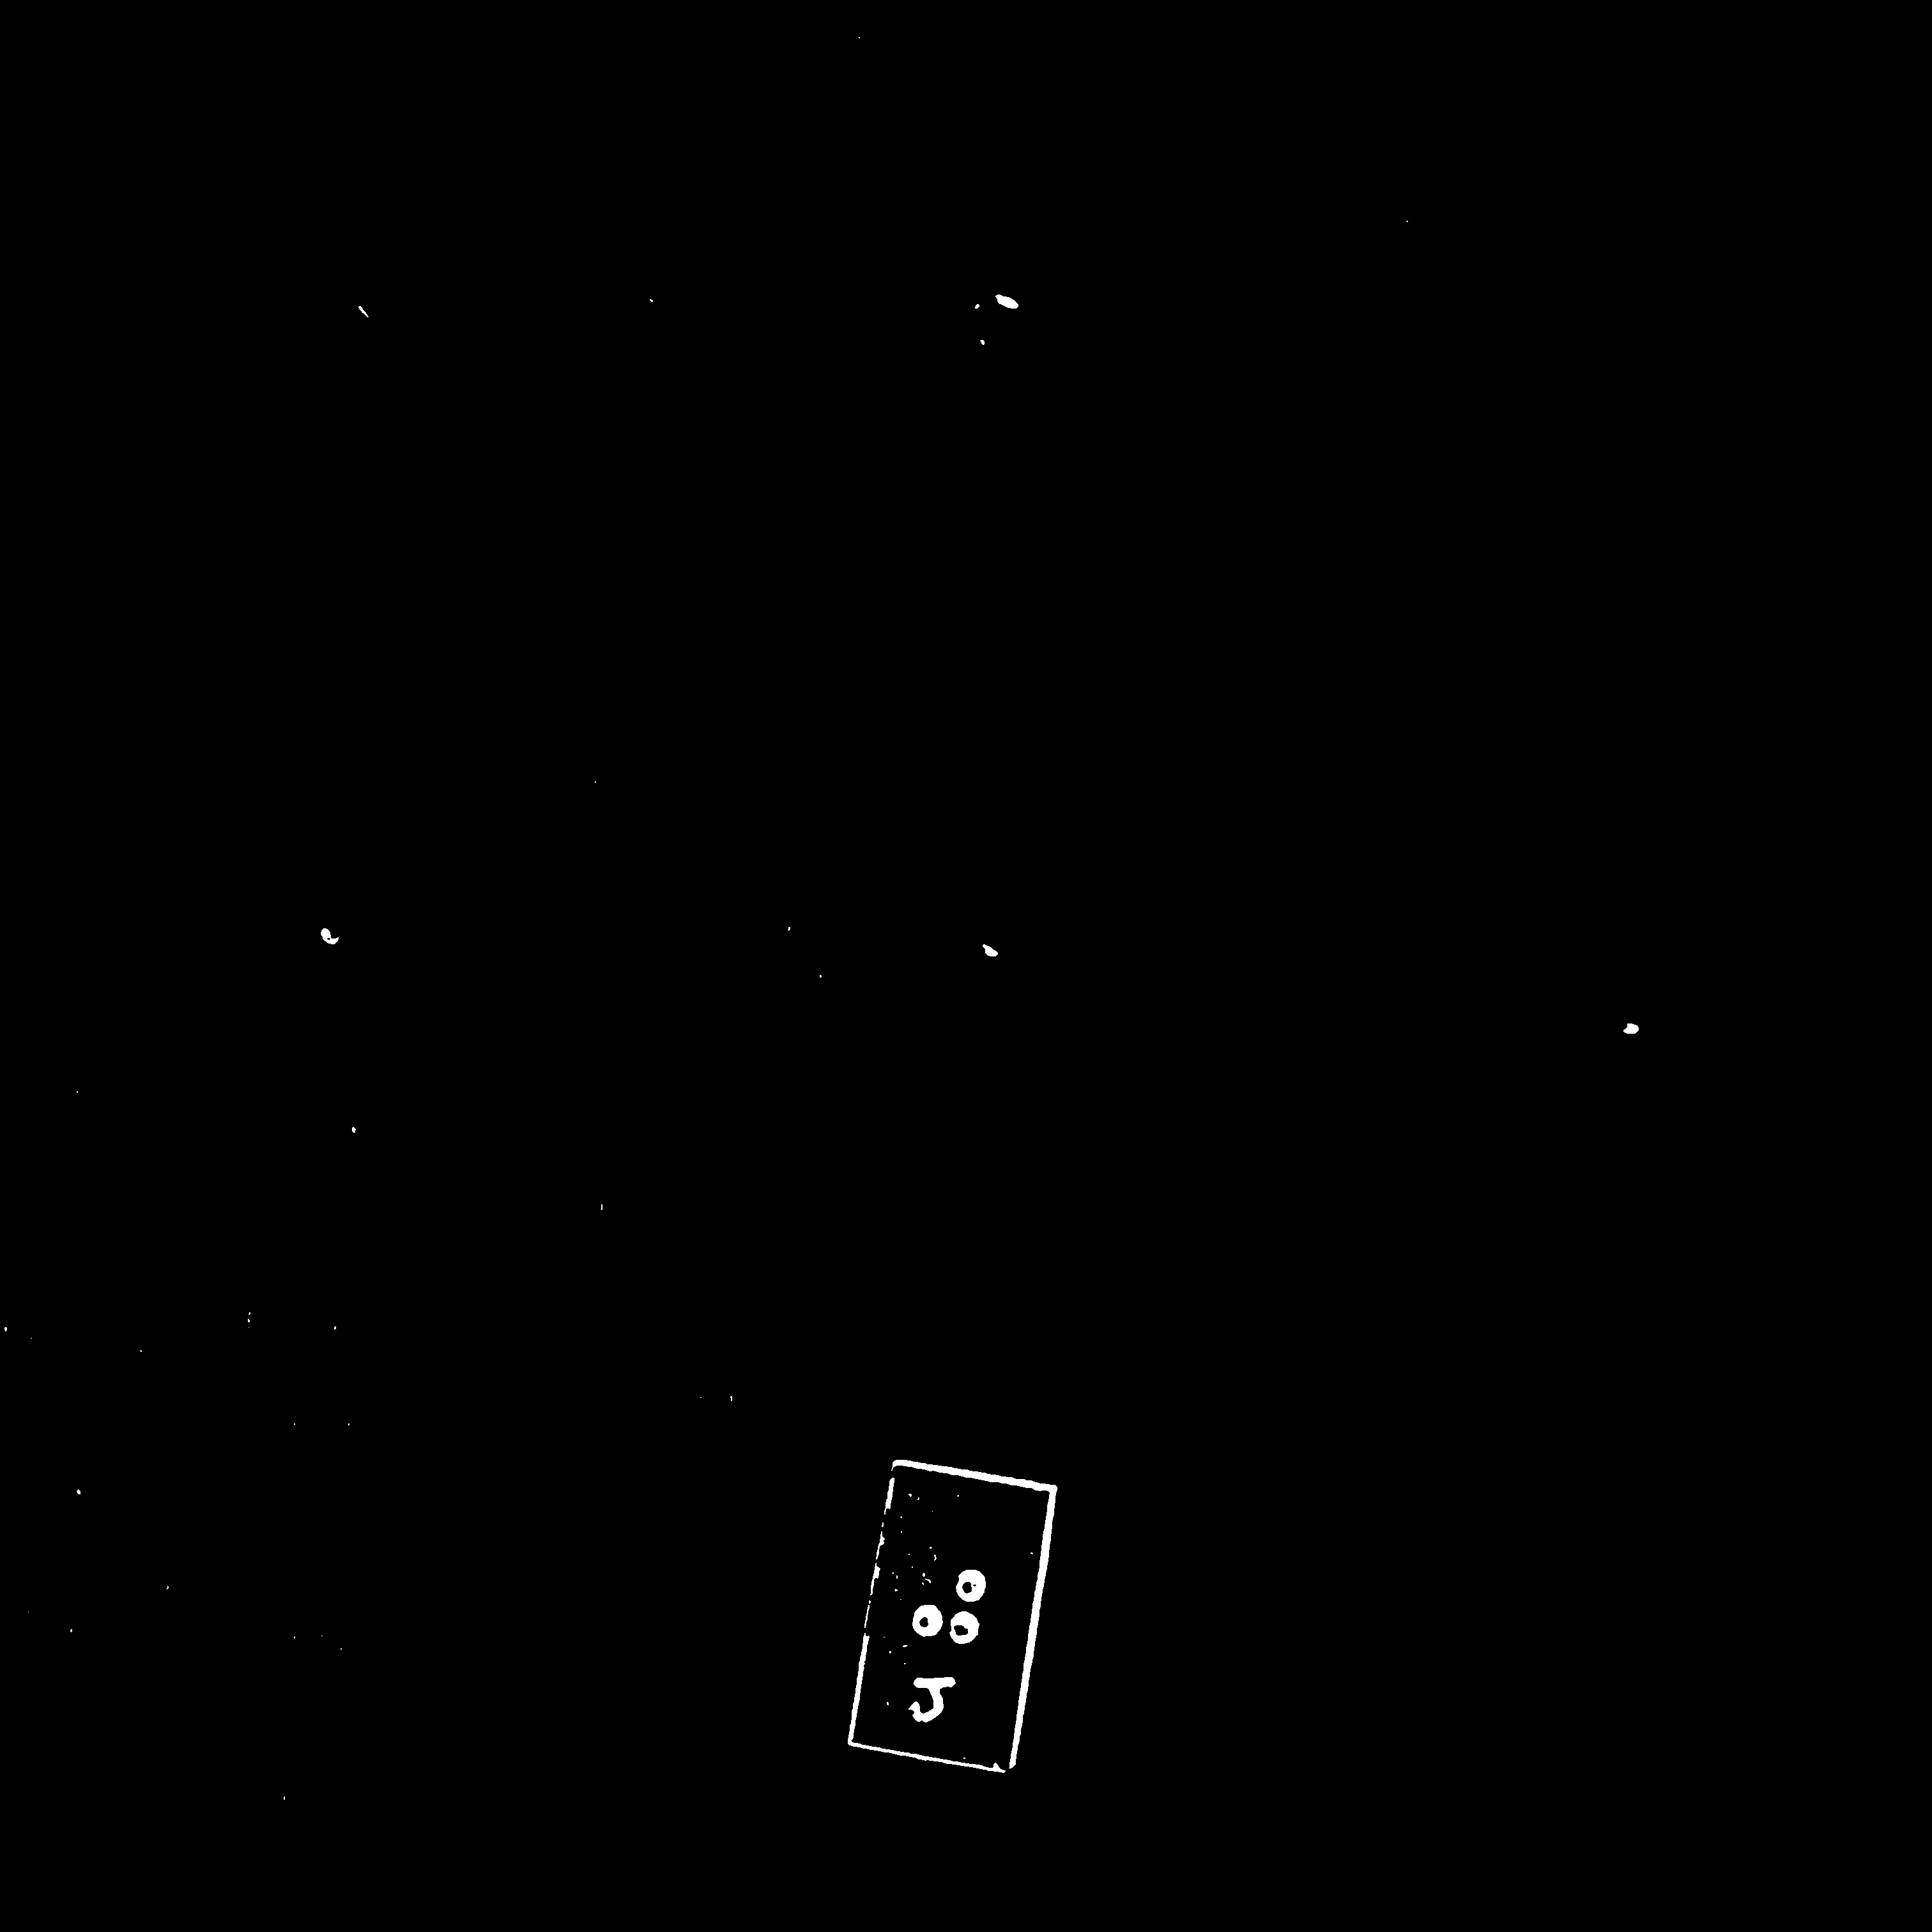j: (901, 1541, 992, 1676)
